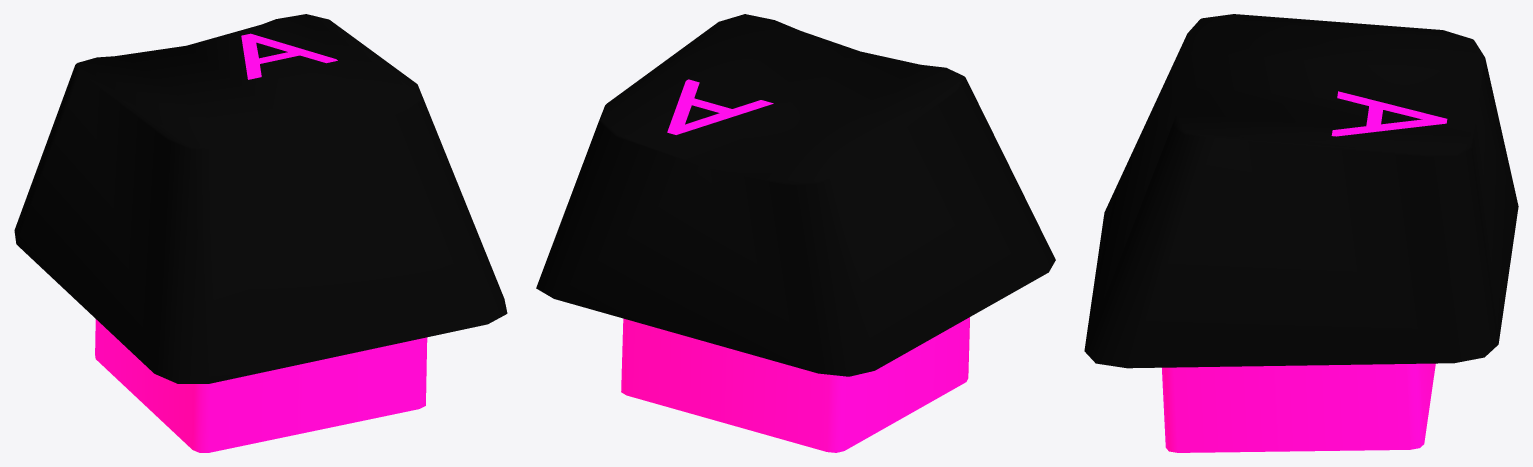
The model's file is a-DeKOlEF4.glb.
The picture shows the model from 3 angles, left to right: view 1: azimuth 30°, elevation 25°; view 2: azimuth 150°, elevation 25°; view 3: azimuth 270°, elevation 25°; orthographic projection. The views are drawn at different scales.
Parts seen in each view (by area): view 1: StudyShelf_1137; view 2: StudyShelf_1137; view 3: StudyShelf_1137.
Part boxes in pixels (x1=…): StudyShelf_1137: x1=14, y1=14, x2=507, y2=452; StudyShelf_1137: x1=536, y1=14, x2=1055, y2=452; StudyShelf_1137: x1=1084, y1=14, x2=1518, y2=452.
Bounding box in the file's own units: 4.35 × 3.55 × 4.35.
